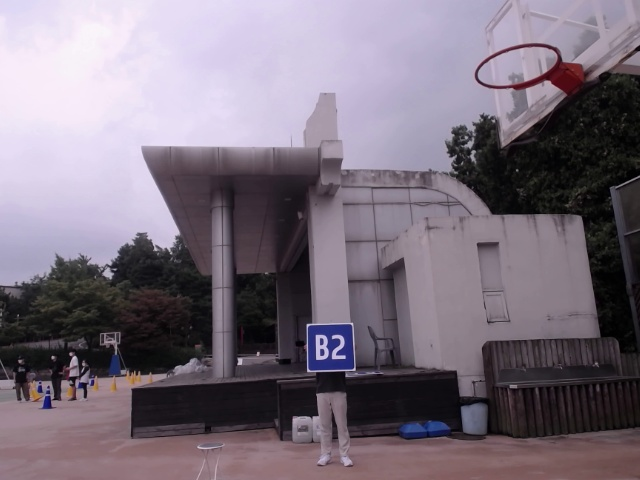delivery_b2: (308, 323, 354, 371)
